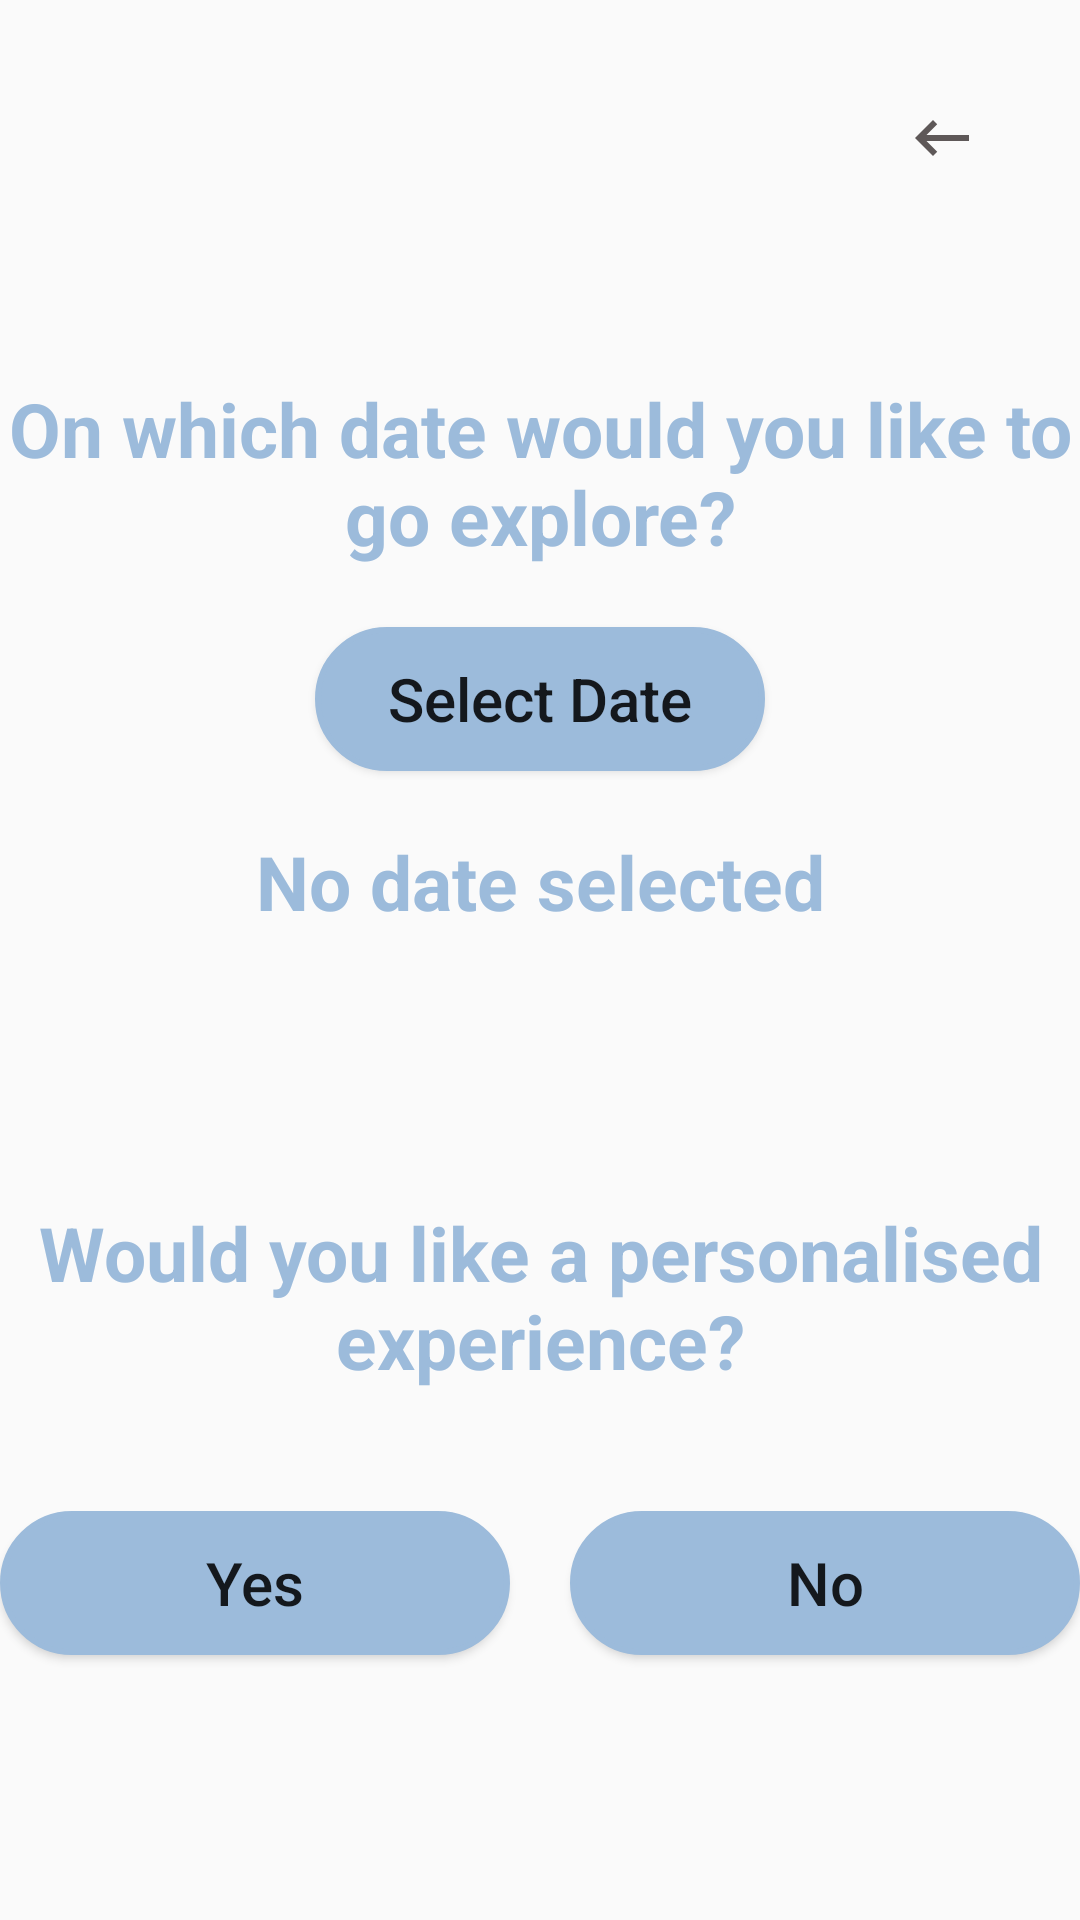

Point at icon controls on the screen. Image size 1080px×1920px, points as (x,y).
Go Back: (942,138)
